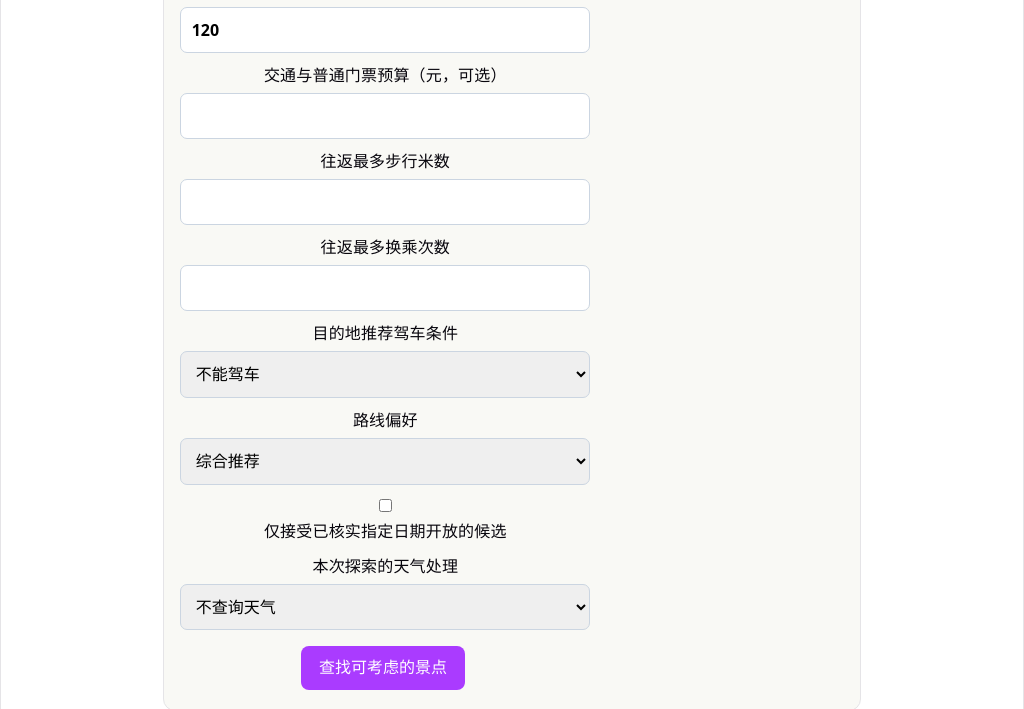
it: 未点选出发点不请求推荐
This screenshot has width=1024, height=709.
(page scrolled)
What coordinates should you click on to do the following:
click the button "查找可考虑的景点"
I would click on:
 (383, 668)
Its box is [301, 646, 465, 690].
(page scrolled)
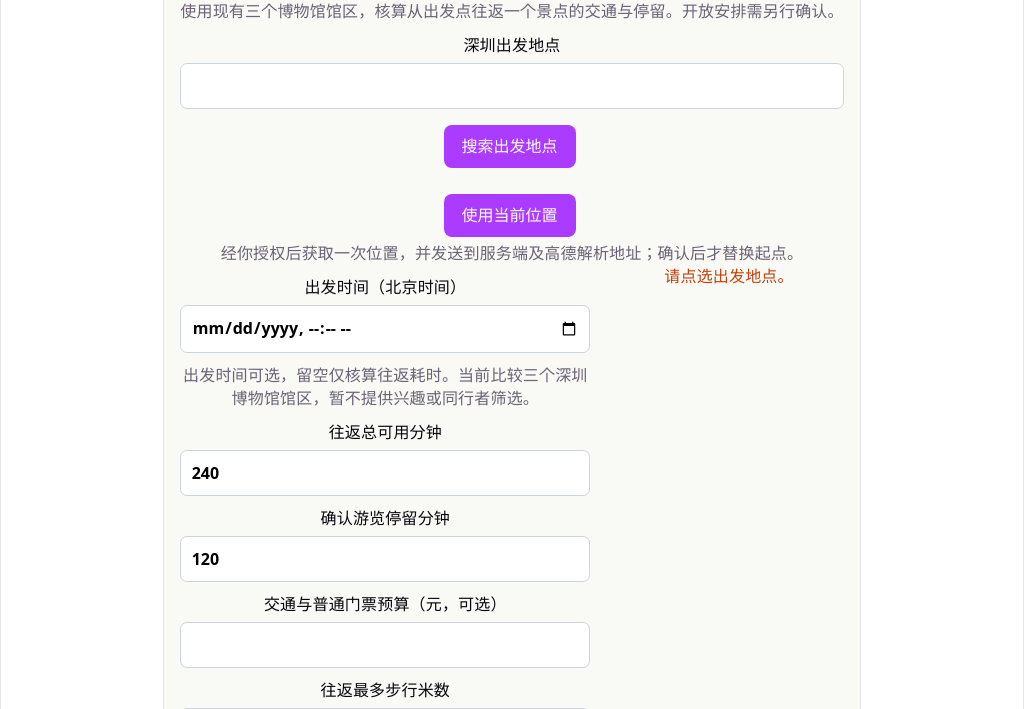
Expected: the message shows "请点选出发地点", [664, 265, 794, 287]
